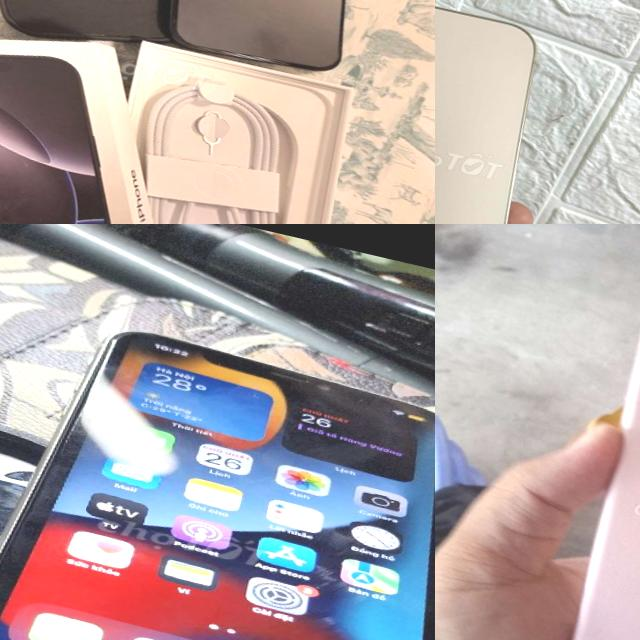gen_11: (0, 294, 435, 640)
gen_12_13: (435, 0, 562, 224)
gen_16: (128, 0, 393, 92)
